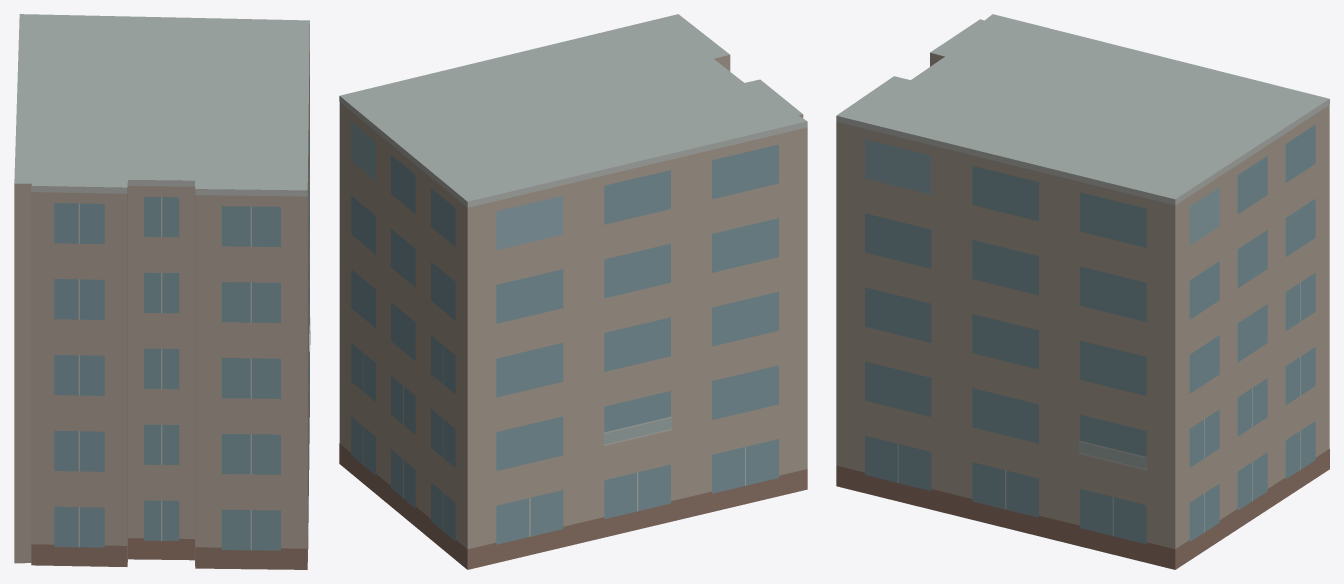
File: survey-upis-32985341.glb
3 views of the same model, side by side, from view 1: azimuth 30°, elevation 25°; view 2: azimuth 150°, elevation 25°; view 3: azimuth 270°, elevation 25° (orthographic). The views are drawn at different scales.
Visible parts, largest first — view 1: survey-upis-32985341.tmp; view 2: survey-upis-32985341.tmp; view 3: survey-upis-32985341.tmp.
Boxes of the visible parts, left/top/right/bottom form: survey-upis-32985341.tmp: left=14, top=14, right=310, bottom=569; survey-upis-32985341.tmp: left=339, top=14, right=807, bottom=569; survey-upis-32985341.tmp: left=836, top=14, right=1329, bottom=569.
Size of the model in its own units: 16.1 by 15 by 18.11.
